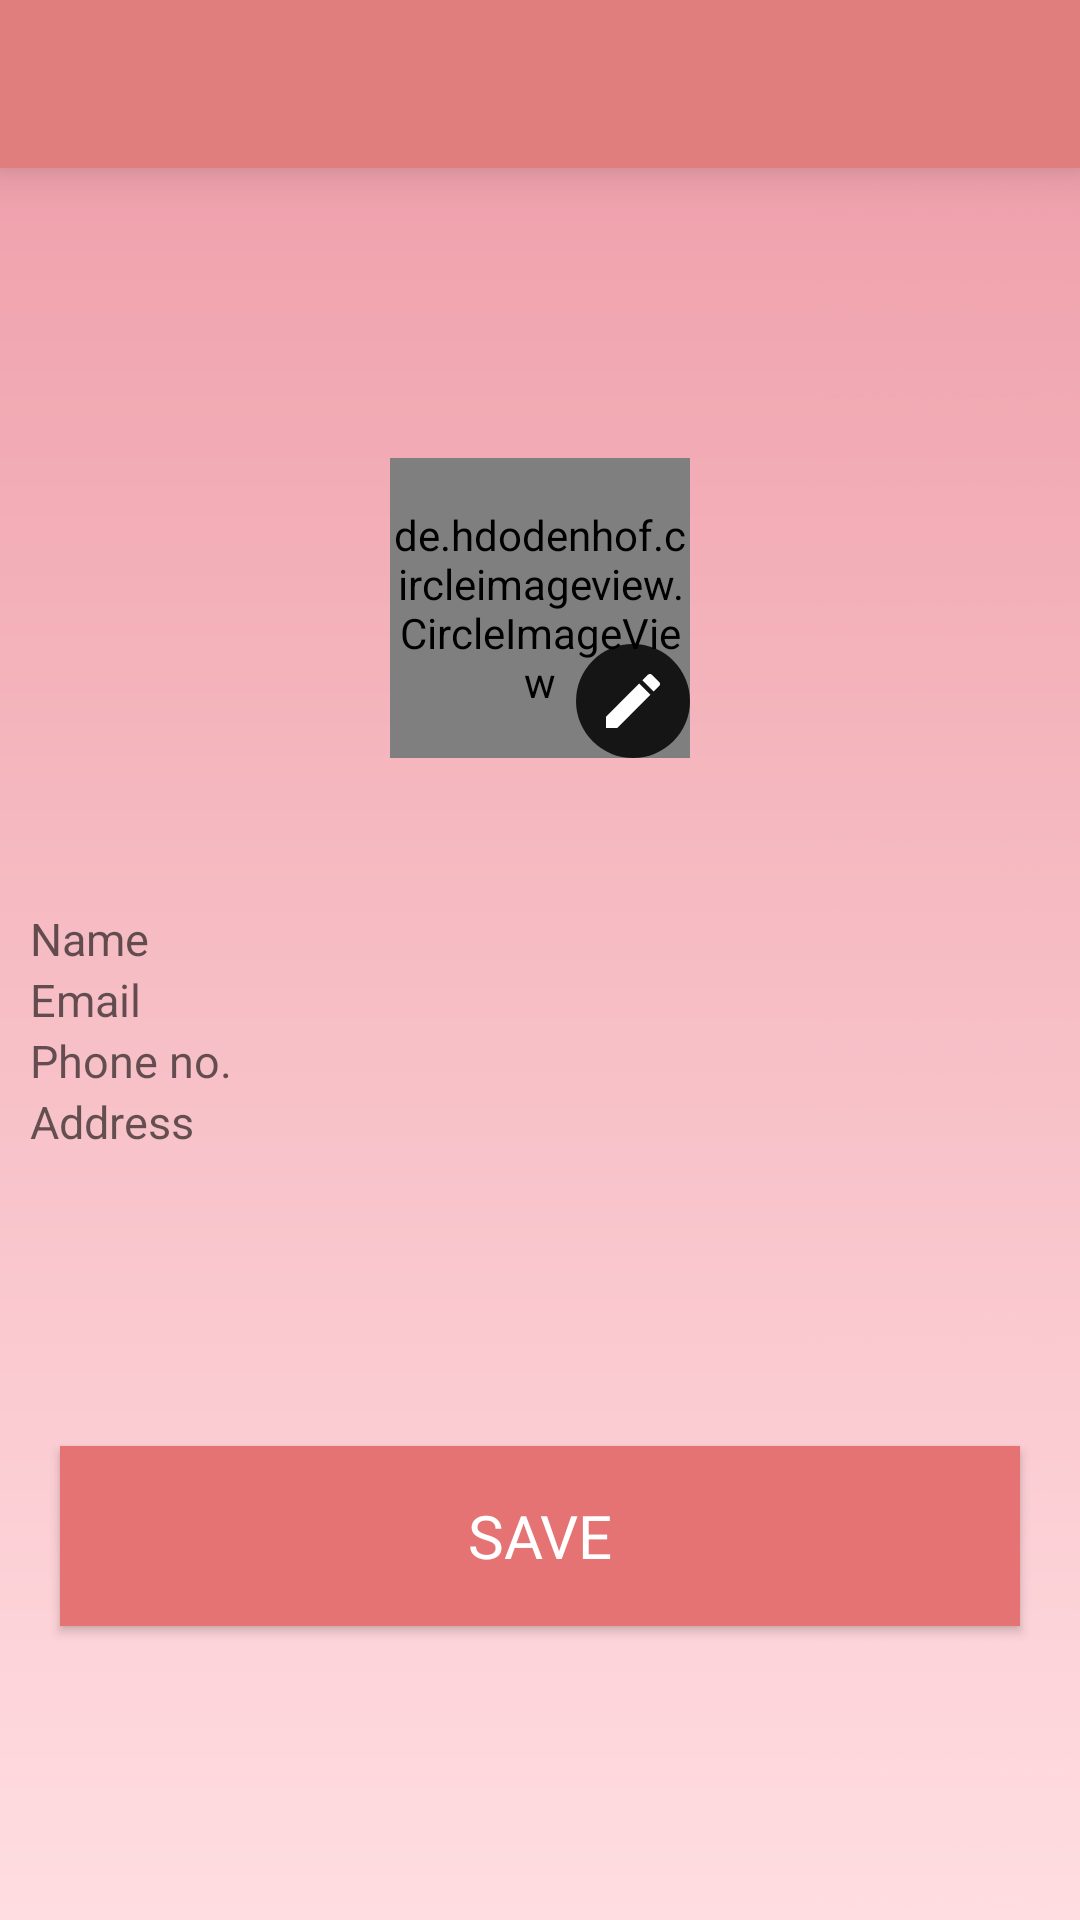

Screen size 1080 × 1920. Icon name, then its center in pixels as (x,y):
edit: (633,701)
